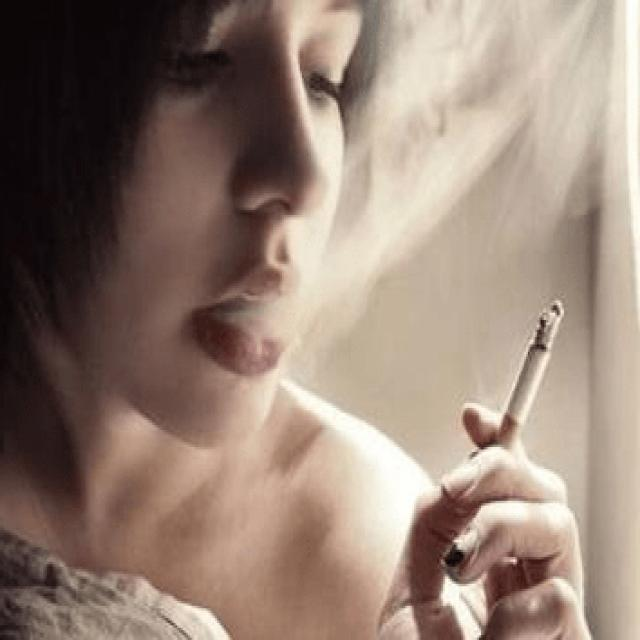smoking: (488, 300, 569, 454)
